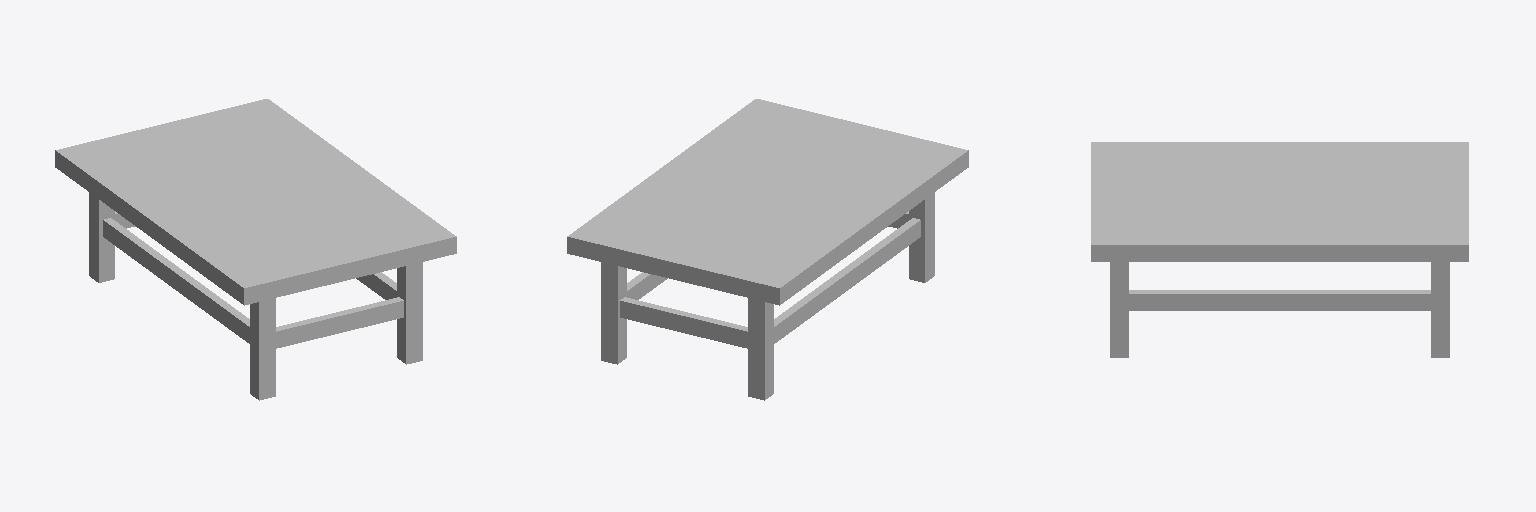
The model's file is stall.obj.
3 views of the same model, side by side, from view 1: azimuth 30°, elevation 25°; view 2: azimuth 150°, elevation 25°; view 3: azimuth 270°, elevation 25° (orthographic).
Parts seen in each view (by area): view 1: stall; view 2: stall; view 3: stall.
Boxes of the visible parts, x1,y1,x2,y2 form: stall: [55, 99, 456, 400]; stall: [567, 99, 968, 400]; stall: [1091, 142, 1468, 357].
Bounding box in the file's own units: 0.65 × 0.3655 × 1.